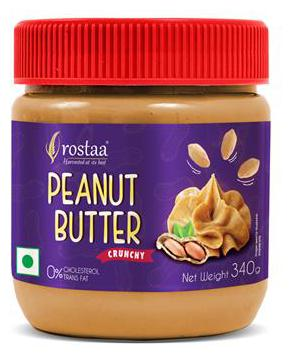JAR: (7, 15, 274, 345)
